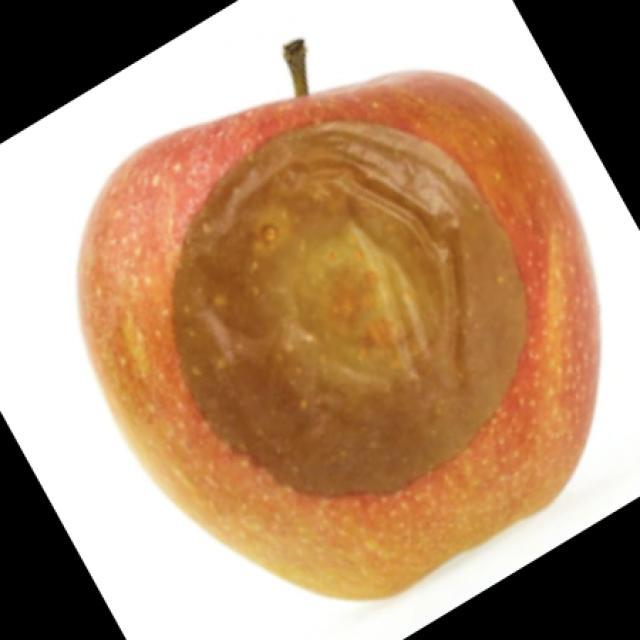Rotten: (105, 67, 605, 593)
